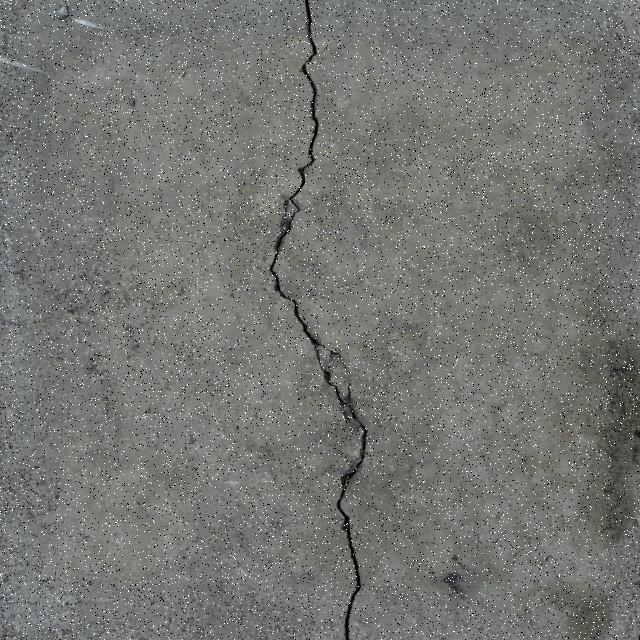moderate crack: (270, 3, 362, 635), (570, 9, 638, 597), (4, 6, 44, 624), (316, 351, 364, 463), (266, 229, 310, 338), (296, 7, 320, 199), (335, 472, 362, 640), (428, 556, 466, 594), (1, 52, 44, 74), (0, 310, 26, 330), (72, 16, 104, 30)
severe crack: (307, 336, 342, 364), (284, 194, 300, 214)
